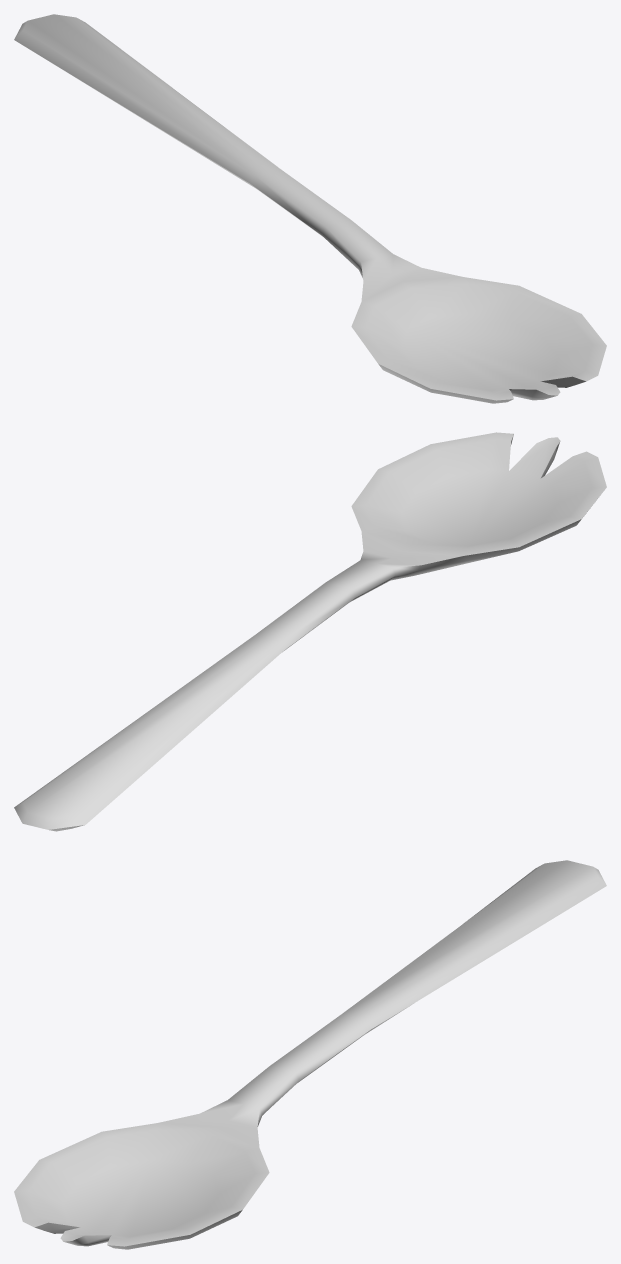
Rendered from SaladFork_01.fbx.
The picture shows the model from 3 angles, top to bottom: view 1: azimuth 30°, elevation 25°; view 2: azimuth 150°, elevation 25°; view 3: azimuth 330°, elevation 25°; orthographic projection.
Parts seen in each view (by area): view 1: SaladFork_01; view 2: SaladFork_01; view 3: SaladFork_01.
Part boxes in pixels (left/top/right/bottom): SaladFork_01: left=14, top=14, right=606, bottom=403; SaladFork_01: left=14, top=432, right=606, bottom=831; SaladFork_01: left=14, top=860, right=606, bottom=1249.
Size of the model in its own units: 0.0402 by 0.00733 by 0.1787.
